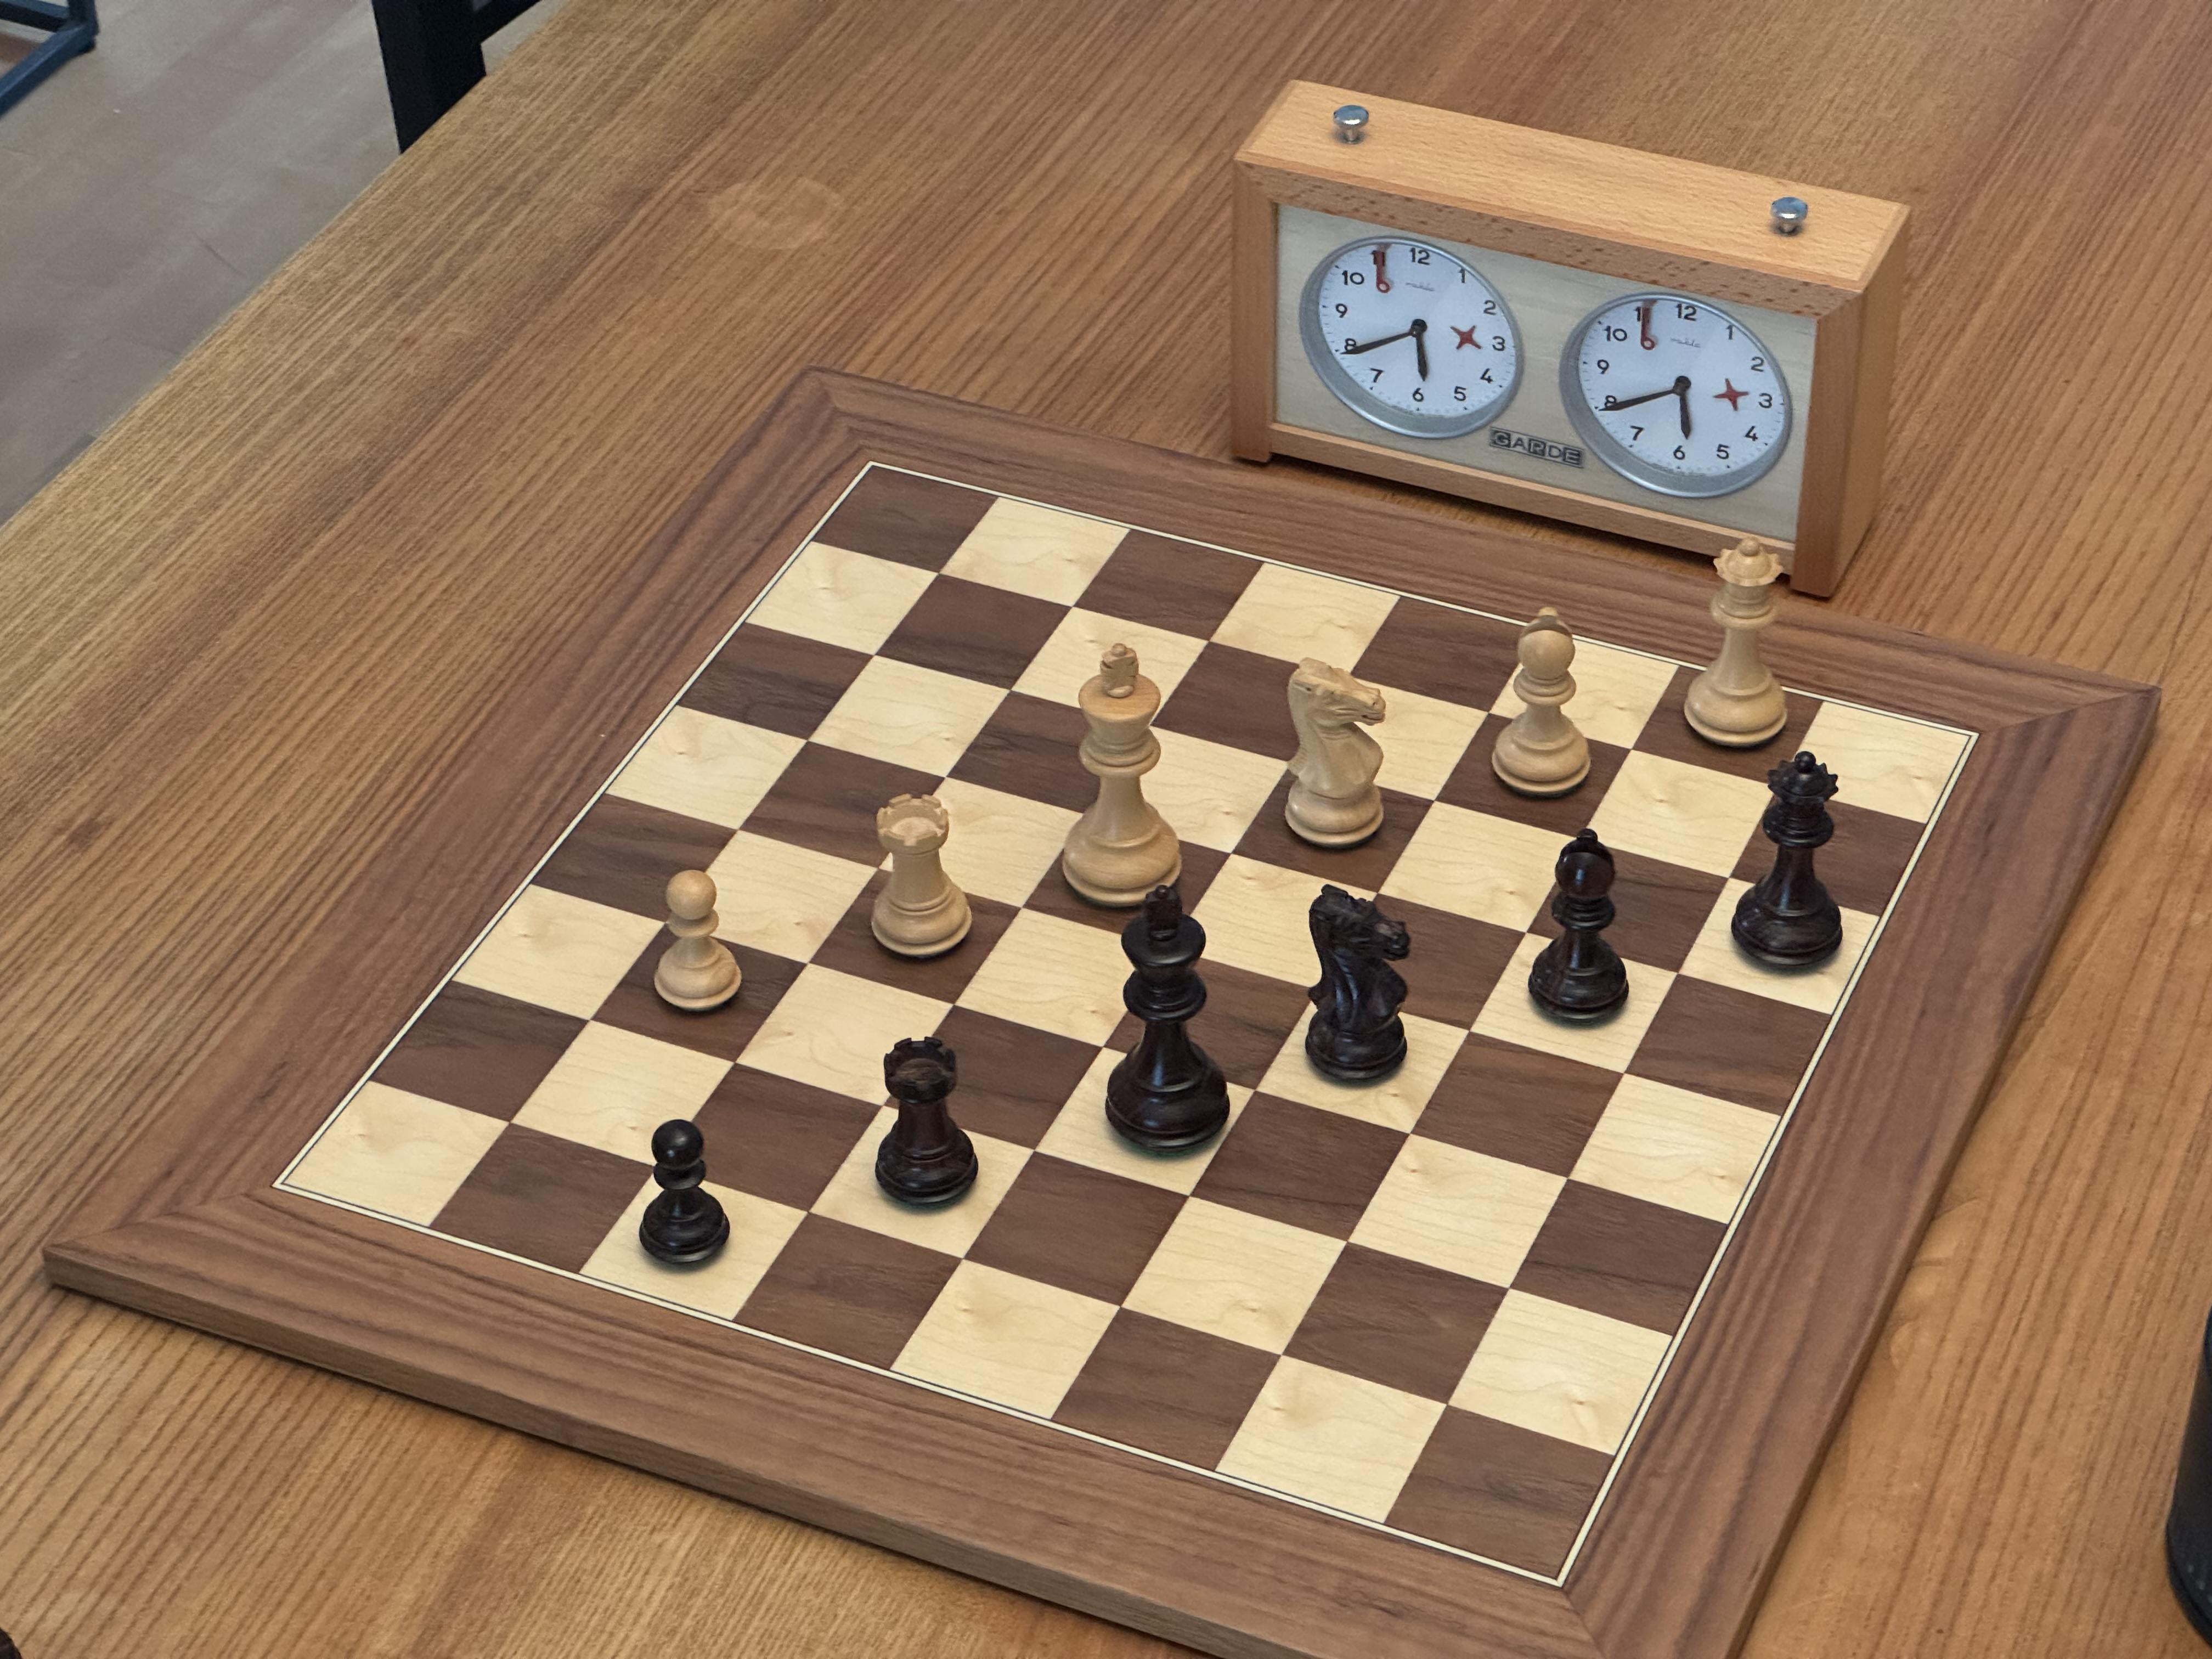corner A: (202, 1108, 354, 1260)
corner B: (1480, 1504, 1635, 1659)
corner C: (1898, 657, 2052, 814)
